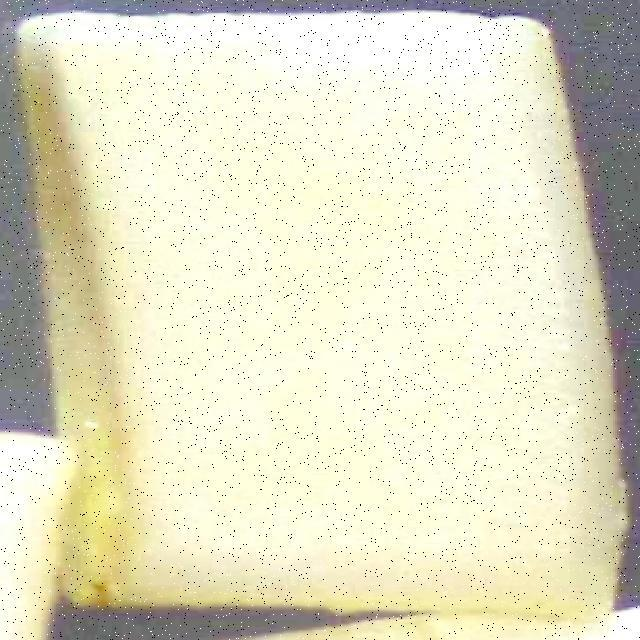fragments: (14, 5, 631, 629)
